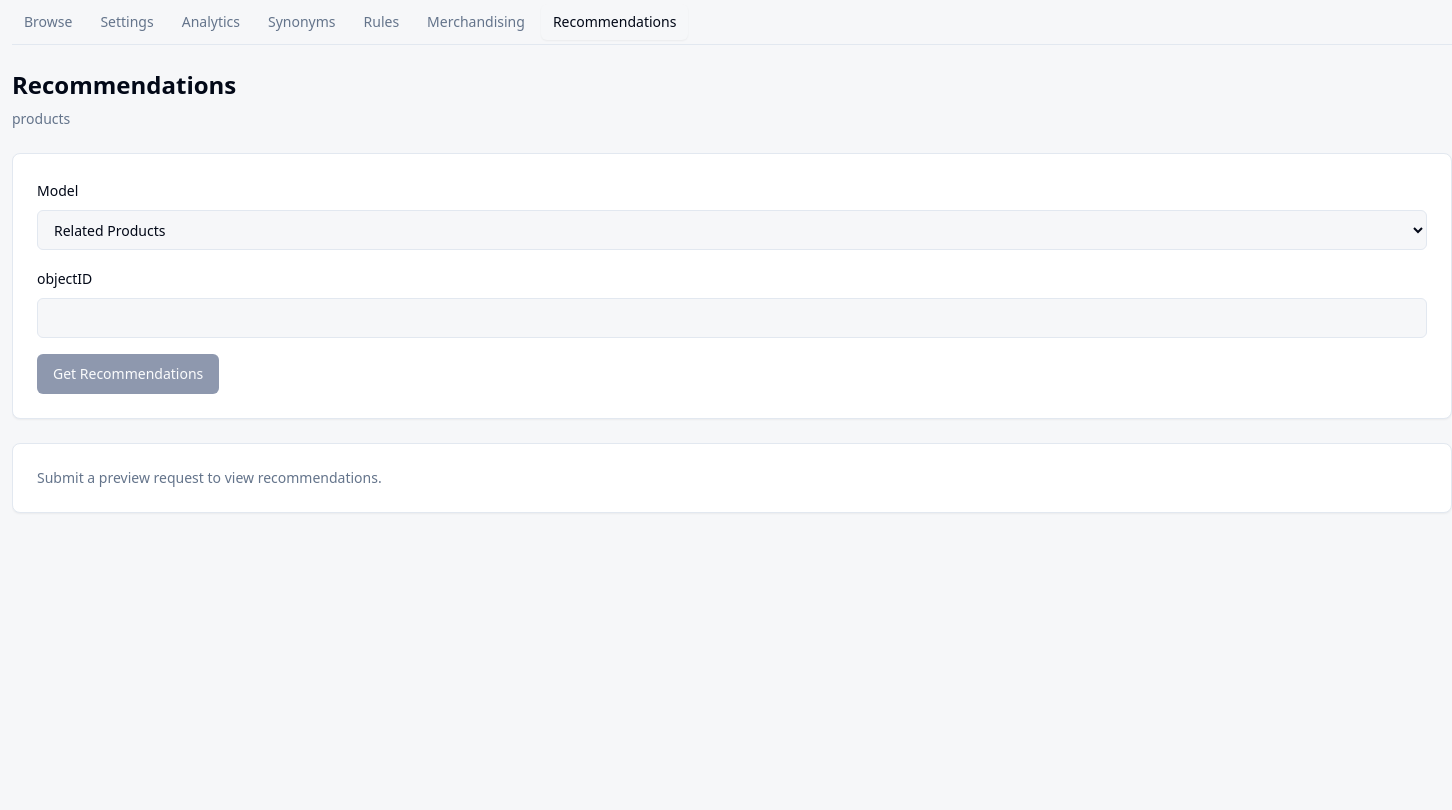
it: Recommendations page › clears stale results when the selected model changes
In the field with test id "recommendations-object-input": coordinates (732, 318) [37,298,1427,338], type "sku-1"
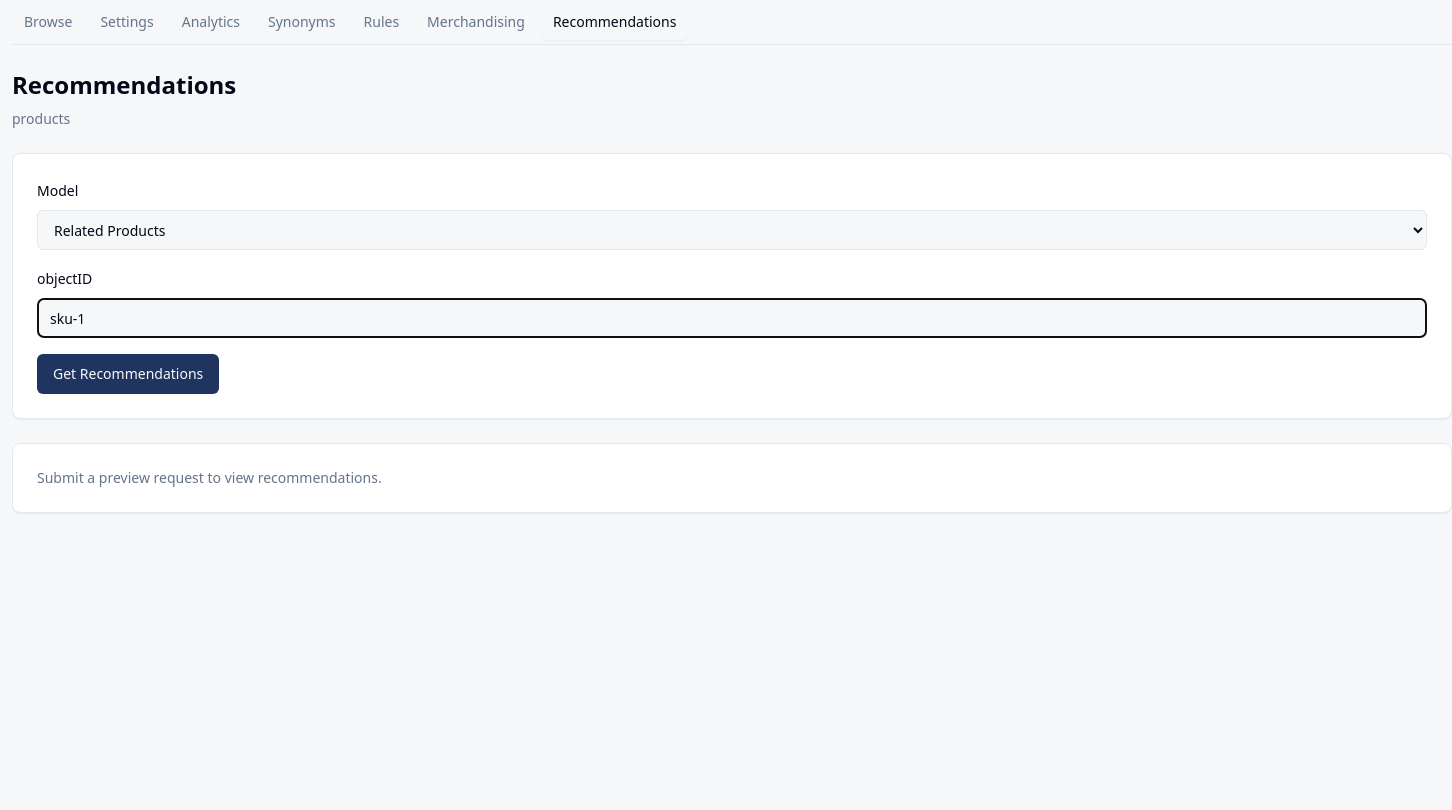
Click the button with test id "get-recommendations-btn": coordinates (128, 374) [37,354,219,394]
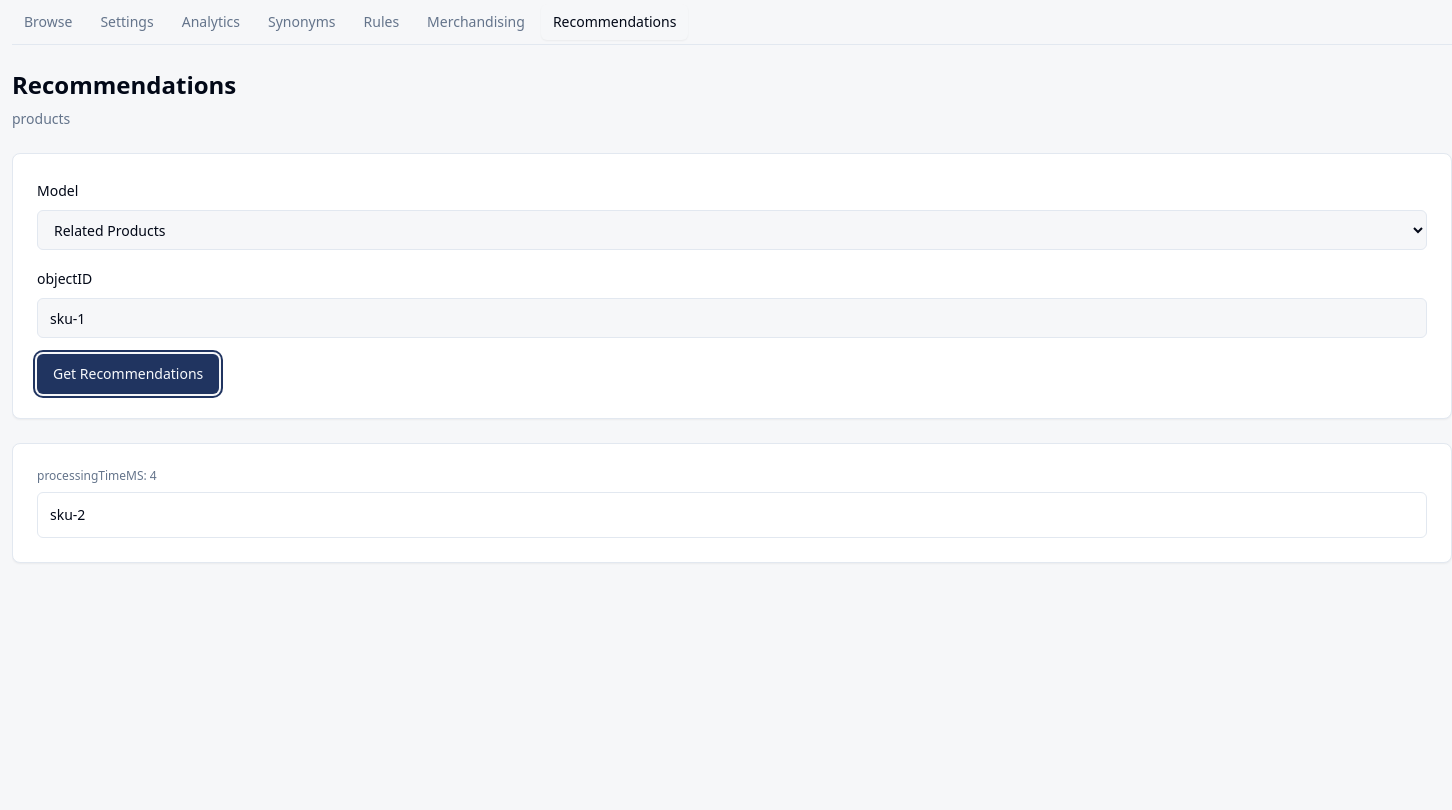
Check: the element with test id "recommendations-results" shows "sku-2", box [50,505,85,524]
Select "Trending Facets" in the dropdown with test id "recommendations-model-select": coordinates (732, 230) [37,210,1427,250]
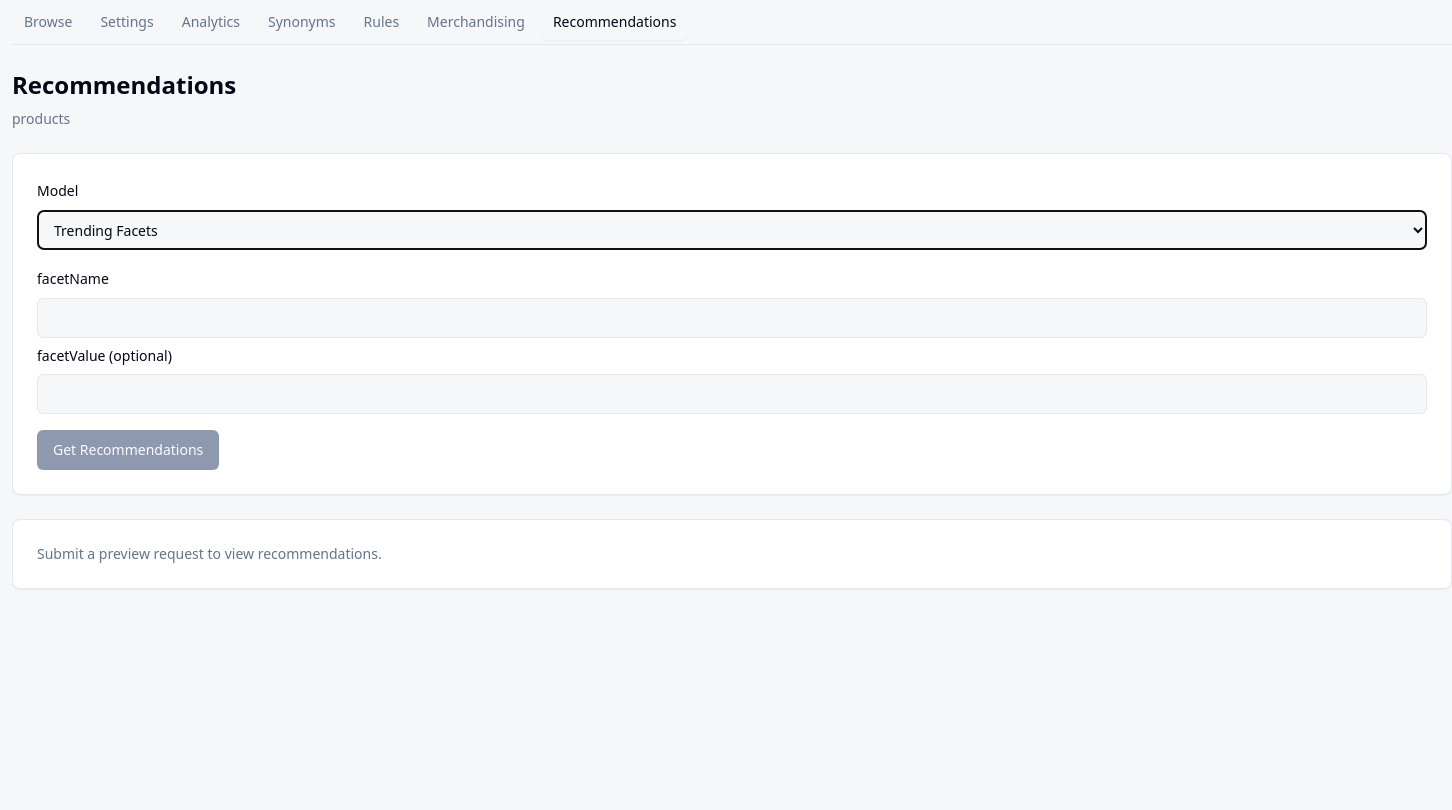
Check: the text "Submit a preview request to view recommendations." is shown, box [37,544,382,563]
Check: the element with test id "recommendations-results" no longer shows "sku-2", box [12,519,1451,589]
